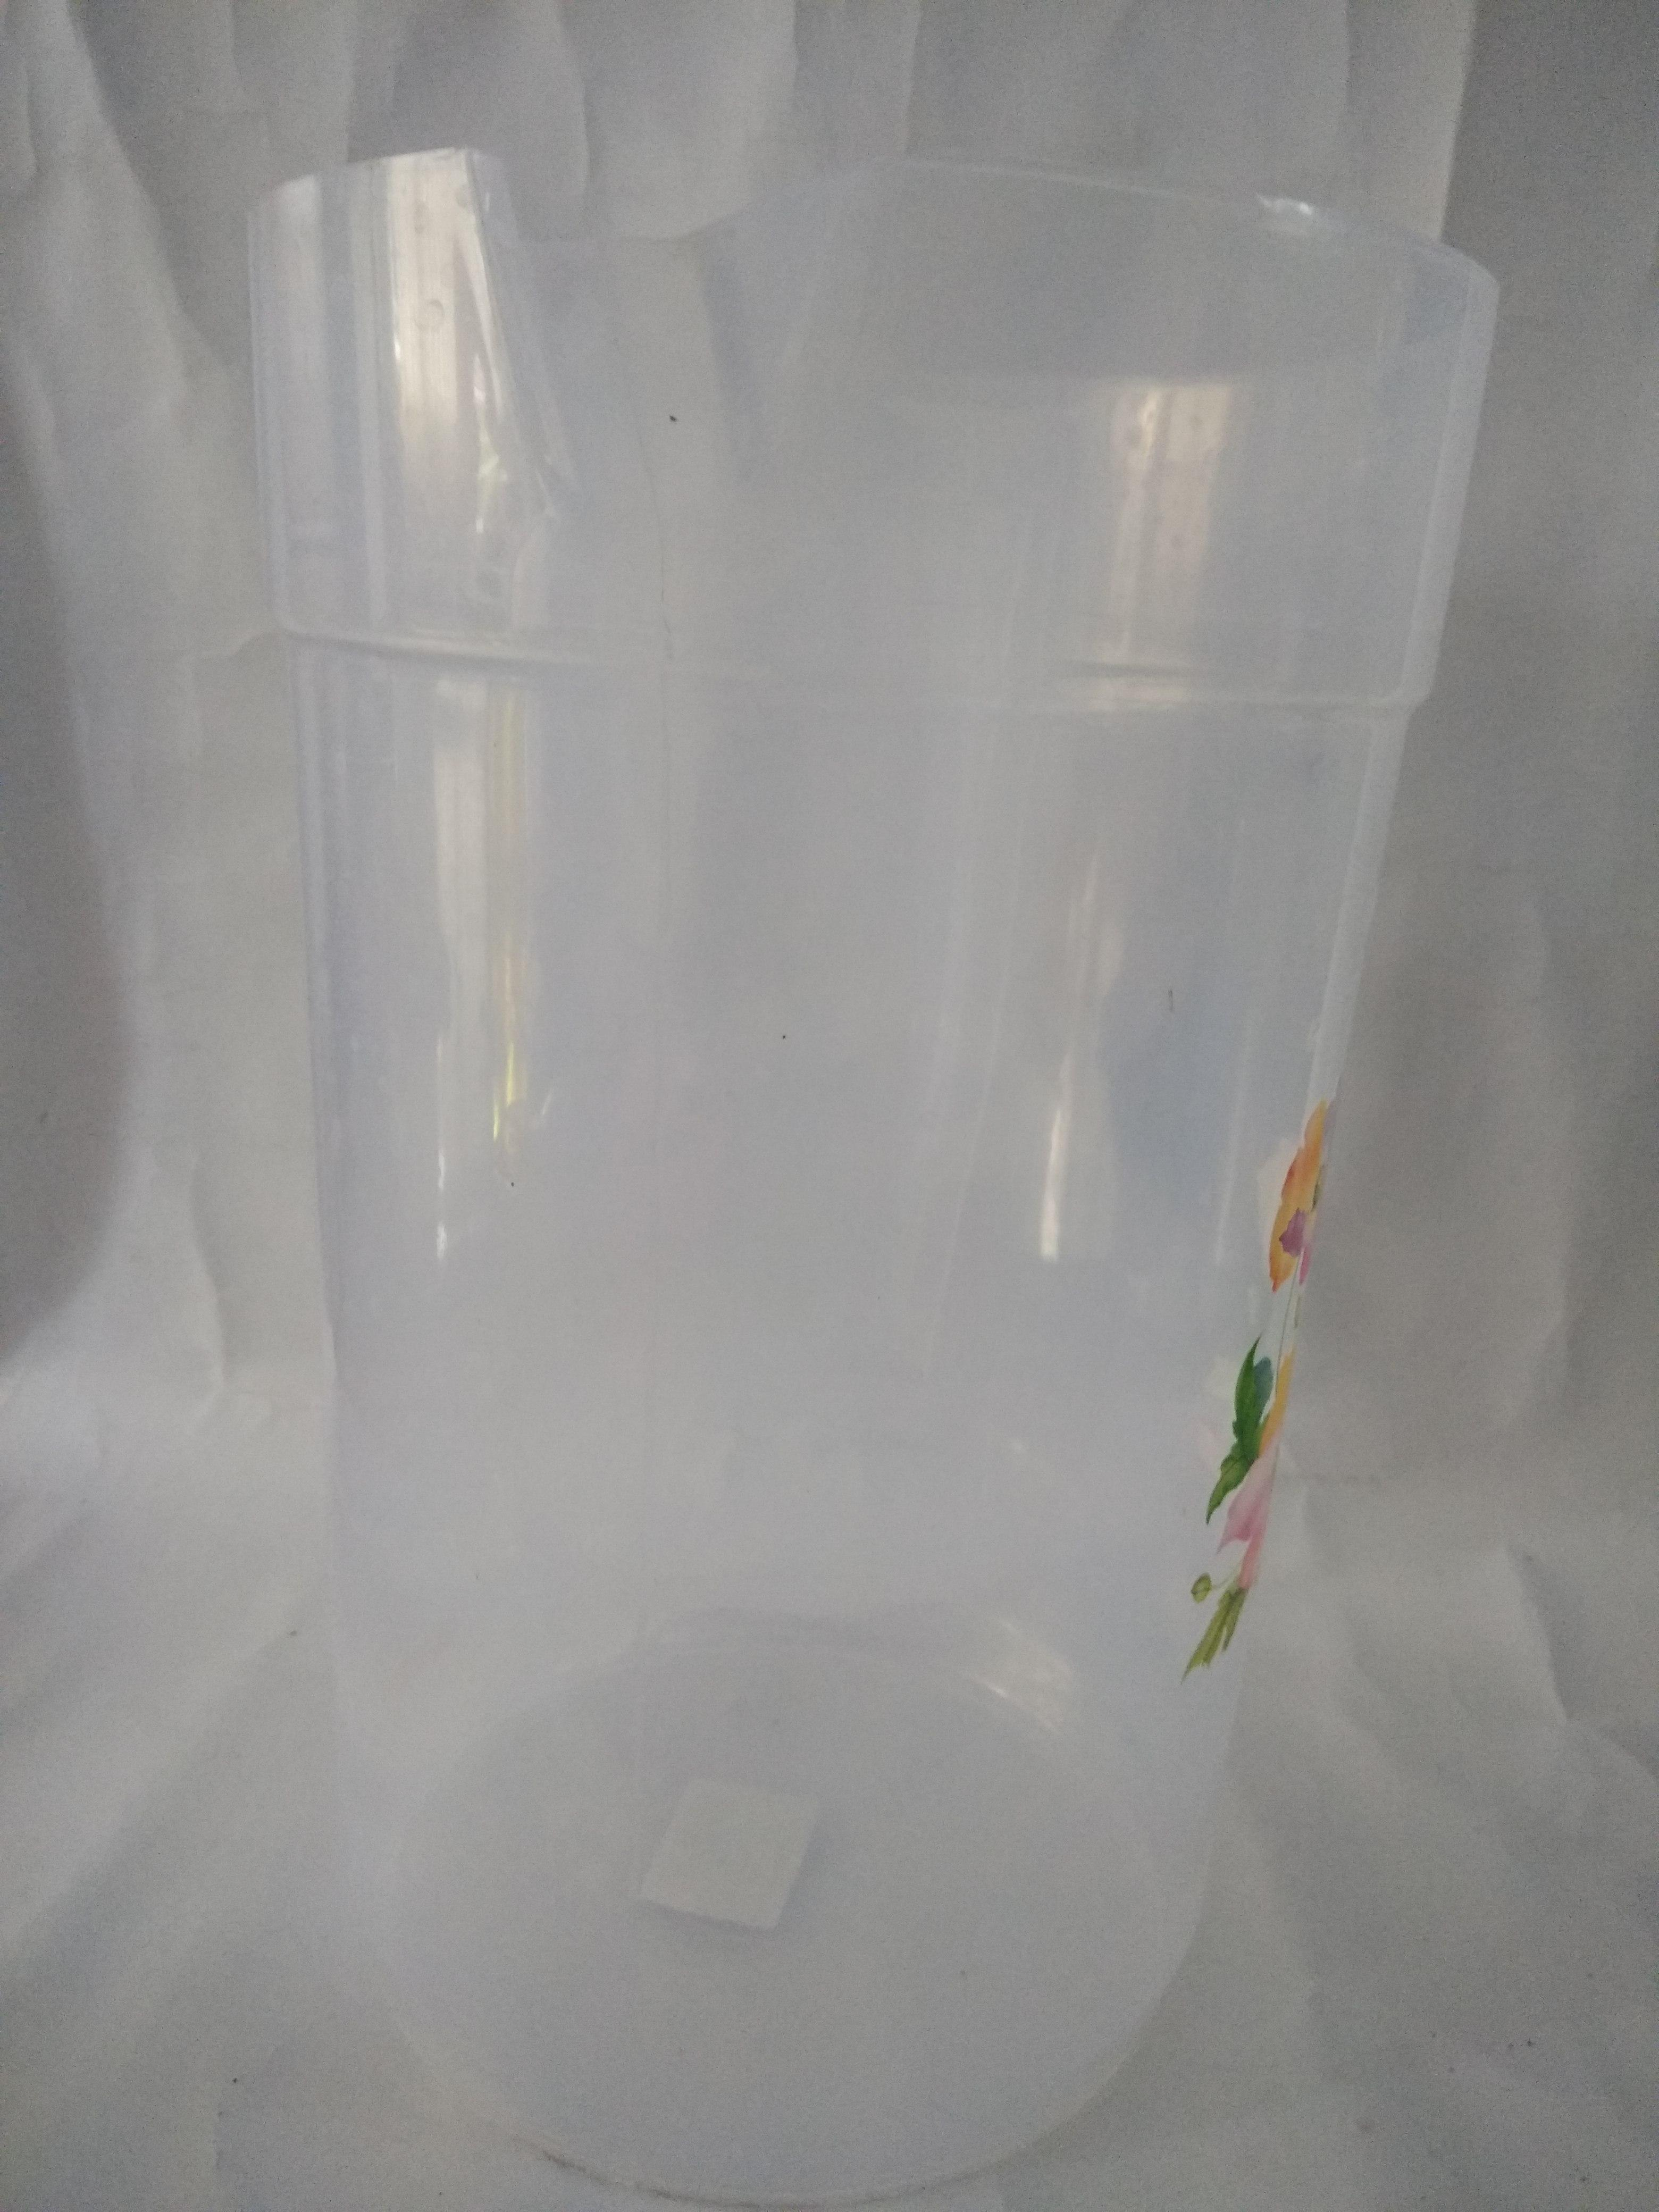PP: (240, 145, 1500, 2212)
